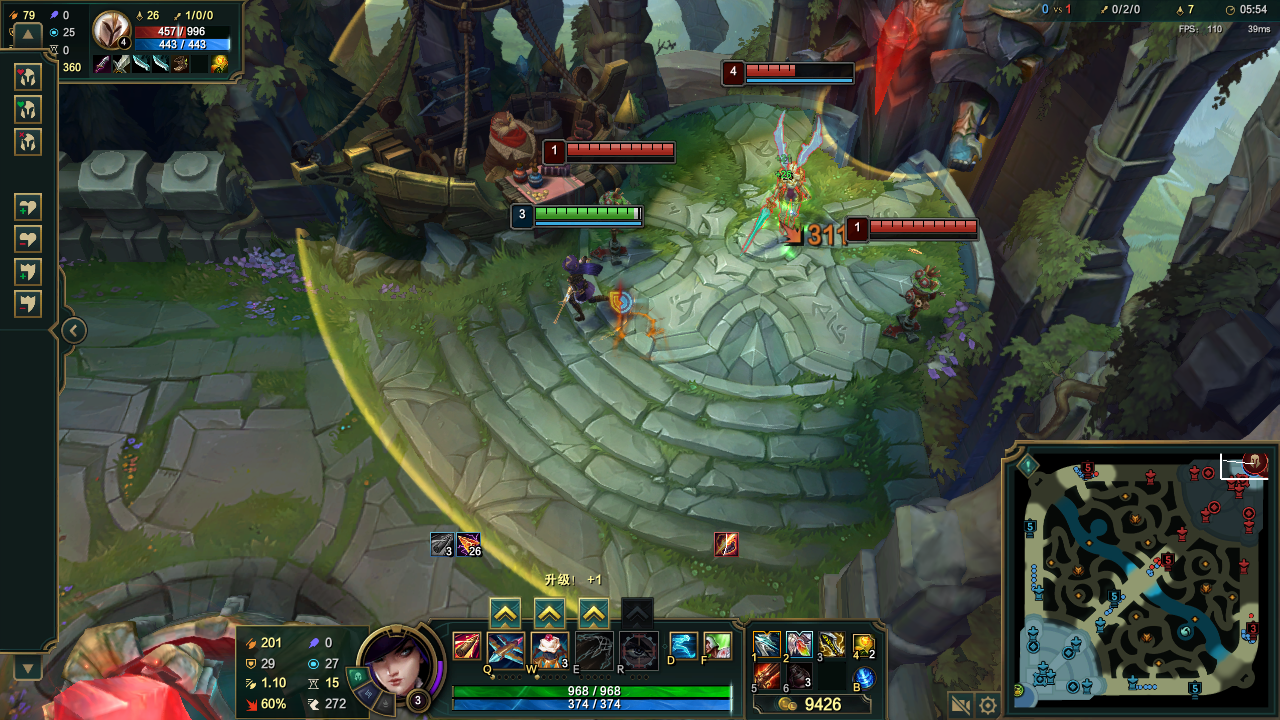DFYX: (871, 219, 978, 233), (567, 143, 679, 154), (747, 65, 856, 74)
